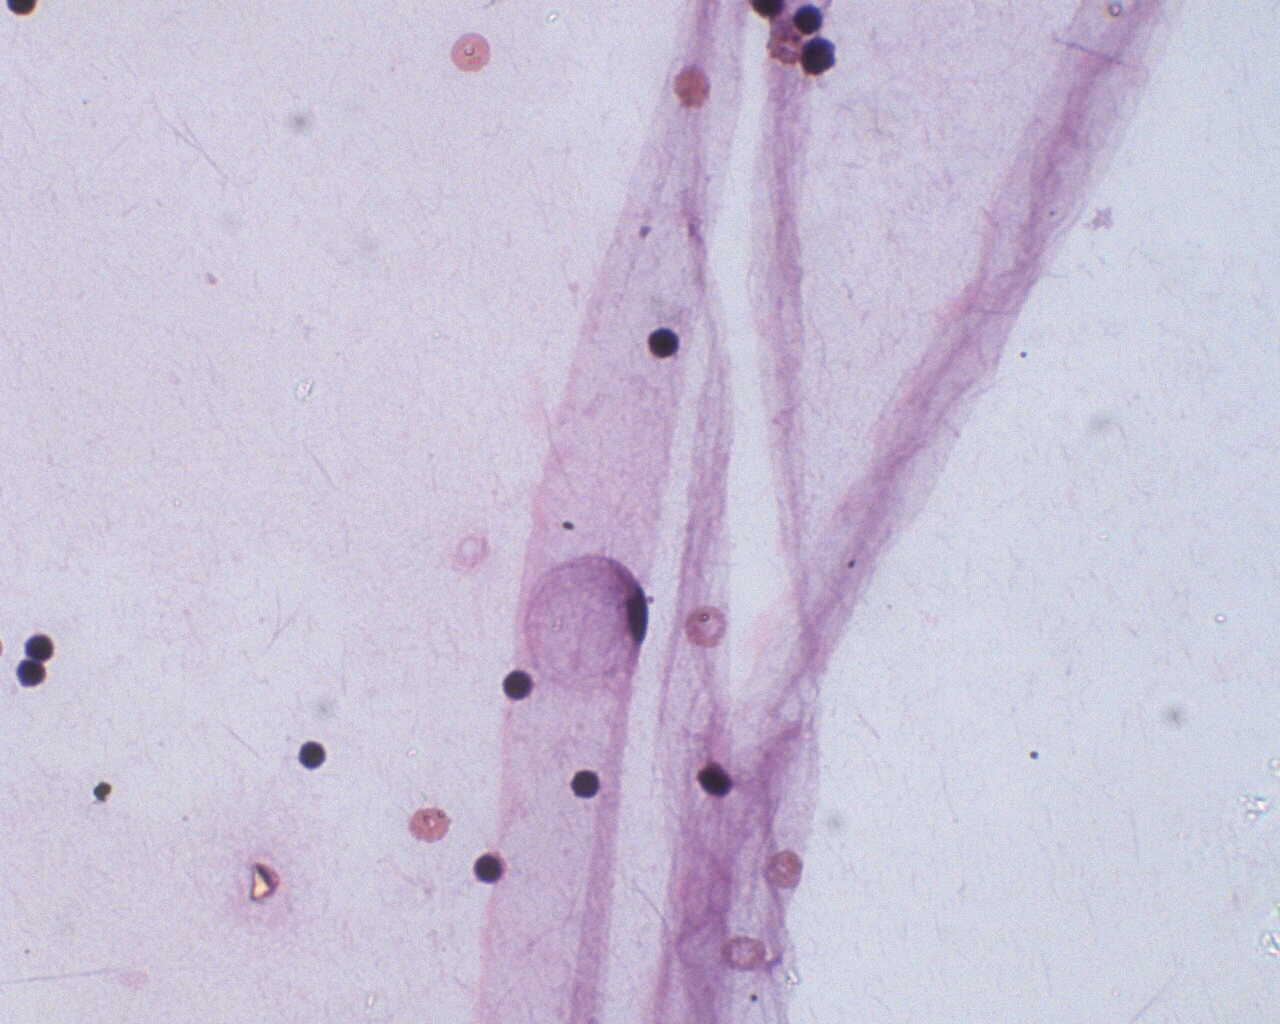histo: (523, 554, 652, 686)
lymph: (497, 666, 541, 706), (642, 323, 688, 360), (290, 734, 330, 773), (472, 848, 511, 887), (565, 765, 604, 802), (9, 655, 46, 691)
